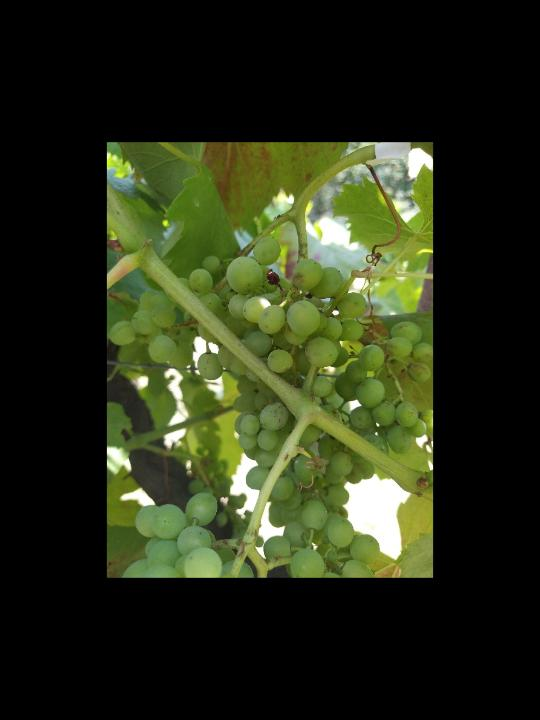grape: (109, 237, 431, 537)
